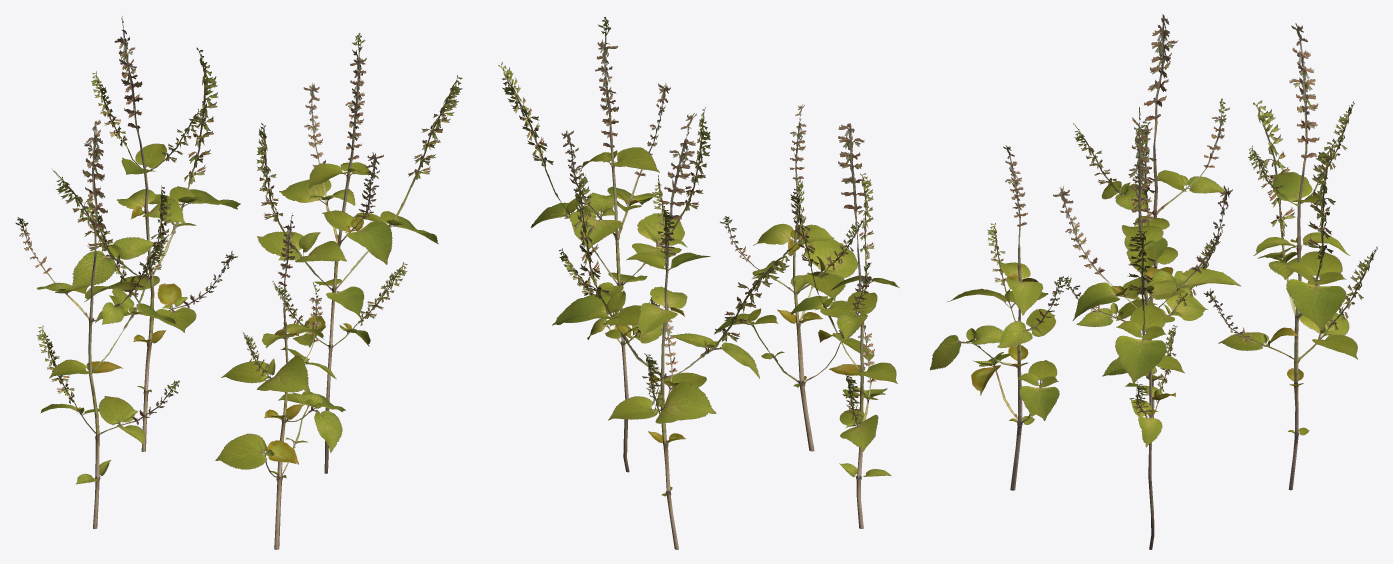
File: cc0_shrub_patch_a.glb
3 views of the same model, side by side, from view 1: azimuth 30°, elevation 25°; view 2: azimuth 150°, elevation 25°; view 3: azimuth 270°, elevation 25° (orthographic). The views are drawn at different scales.
Visible parts, largest first — view 1: cc0_shrub_patch_a; view 2: cc0_shrub_patch_a; view 3: cc0_shrub_patch_a.
Part boxes in pixels (x1=…): cc0_shrub_patch_a: x1=15, y1=16, x2=462, y2=549; cc0_shrub_patch_a: x1=498, y1=17, x2=899, y2=549; cc0_shrub_patch_a: x1=930, y1=14, x2=1377, y2=549.
Bounding box in the file's own units: 0.5662 × 0.584 × 0.5173.
Materials: 1 (1 with a texture image).
